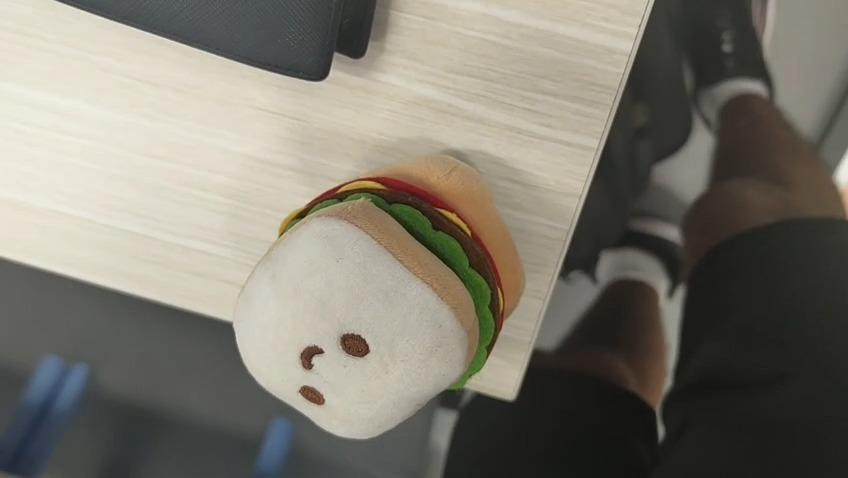objects: (229, 159, 528, 441)
